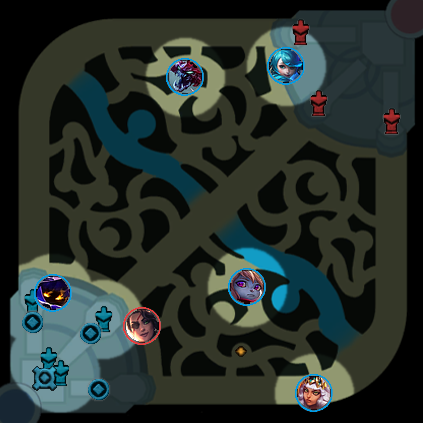Chogath: (166, 58, 204, 96)
Gwen: (267, 47, 305, 85)
Poppy: (228, 268, 266, 306)
Qiyana: (295, 374, 333, 412)
Samira: (123, 307, 161, 345)
Veigar: (34, 274, 72, 312)
